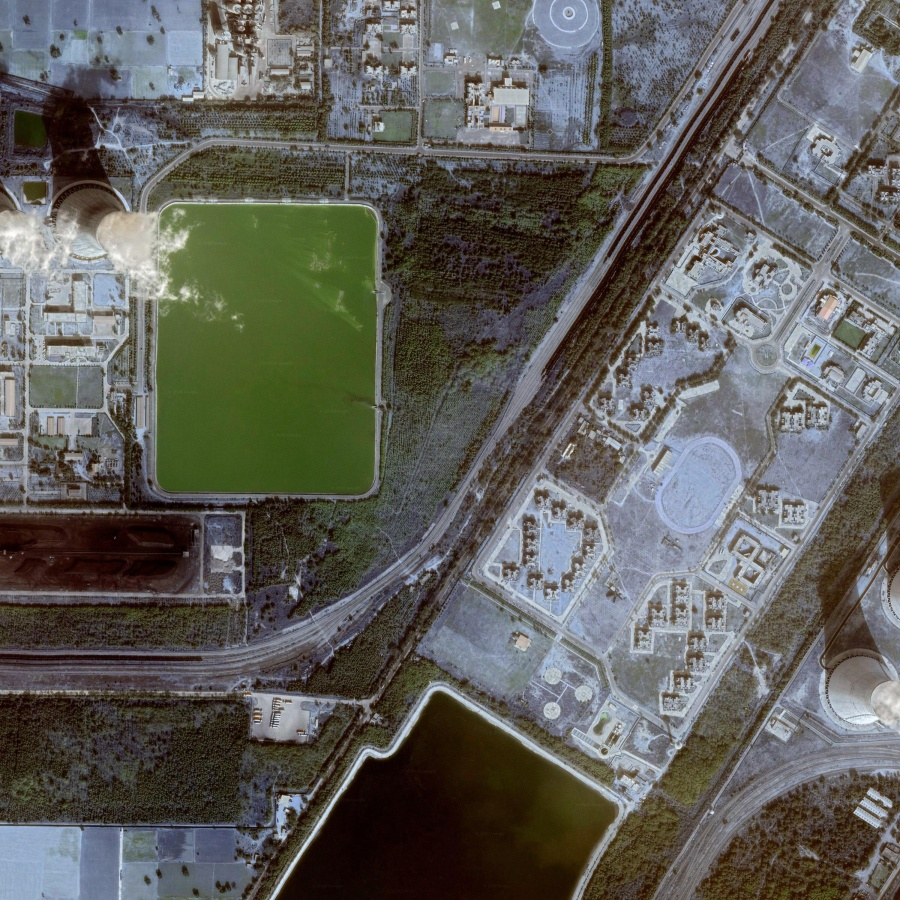PowerPlant: (3, 91, 370, 606)
